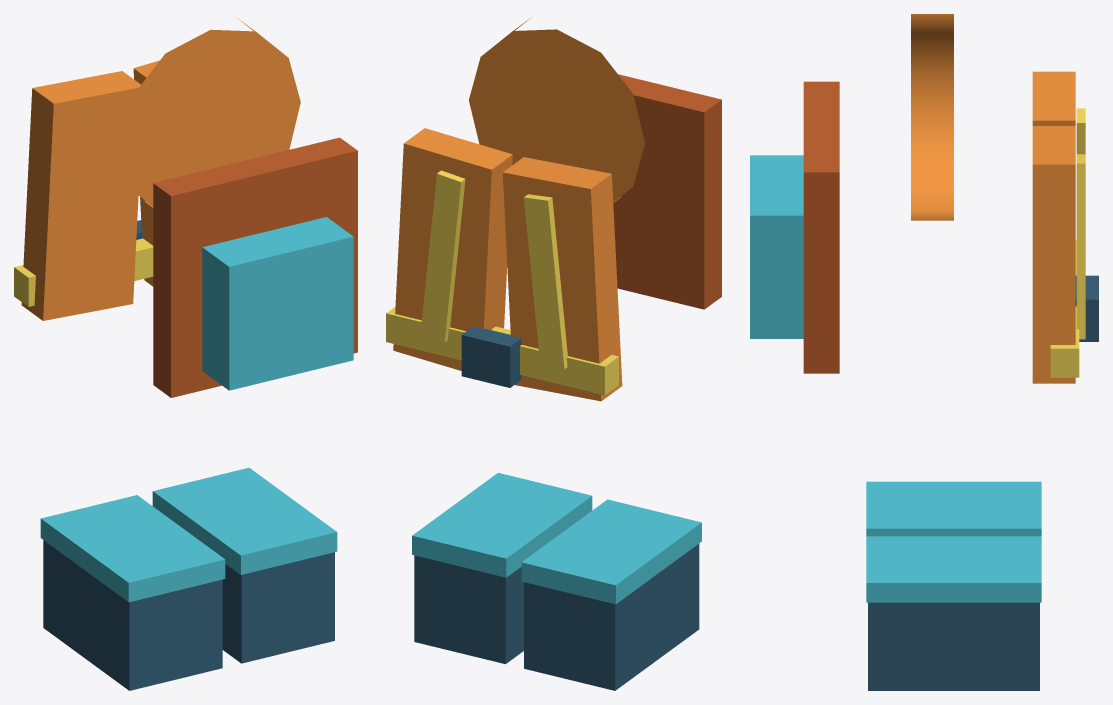
File: boat_outfit.glb
The picture shows the model from 3 angles, left to right: view 1: azimuth 30°, elevation 25°; view 2: azimuth 150°, elevation 25°; view 3: azimuth 270°, elevation 25°; orthographic projection. The views are drawn at different scales.
Visible parts, largest first — view 1: BoatOutfit; view 2: BoatOutfit; view 3: BoatOutfit.
Boxes of the visible parts, x1,y1,x2,y2 form: BoatOutfit: (14, 17, 357, 690); BoatOutfit: (386, 17, 721, 690); BoatOutfit: (750, 14, 1098, 690).
Size of the model in its own units: 0.72 by 1.9 by 0.975.
